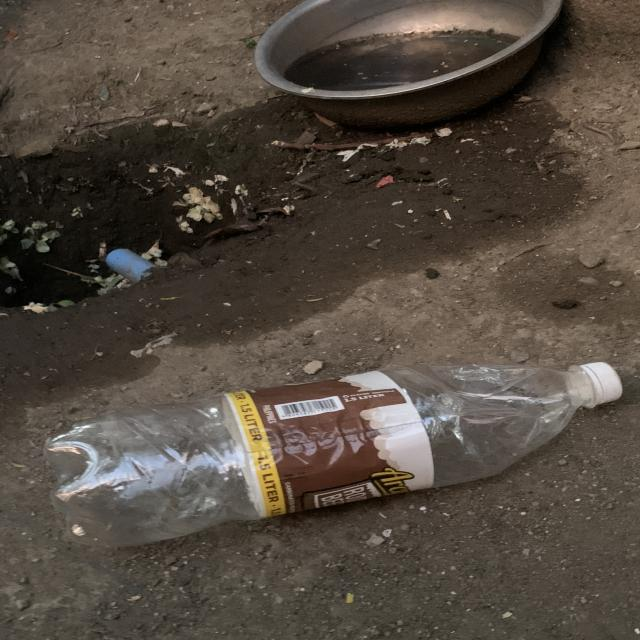Bottle: (45, 362, 622, 546)
